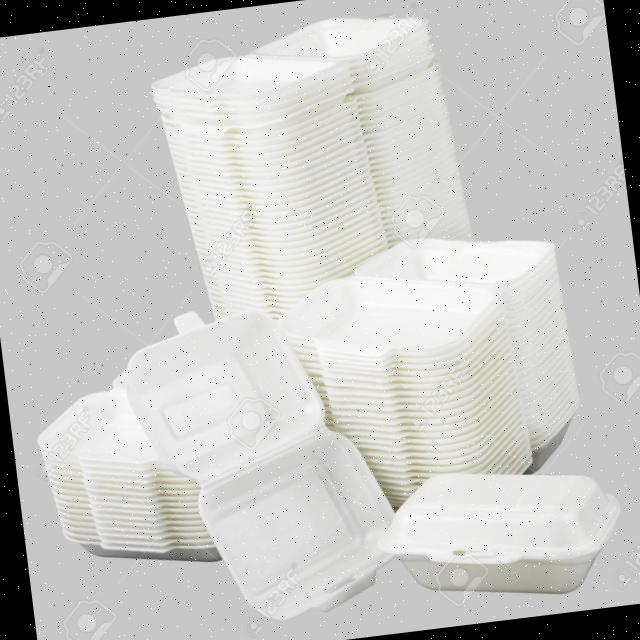styrofoam: (115, 288, 408, 636), (370, 450, 630, 616)
